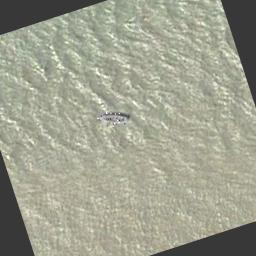boat: (96, 106, 130, 131)
